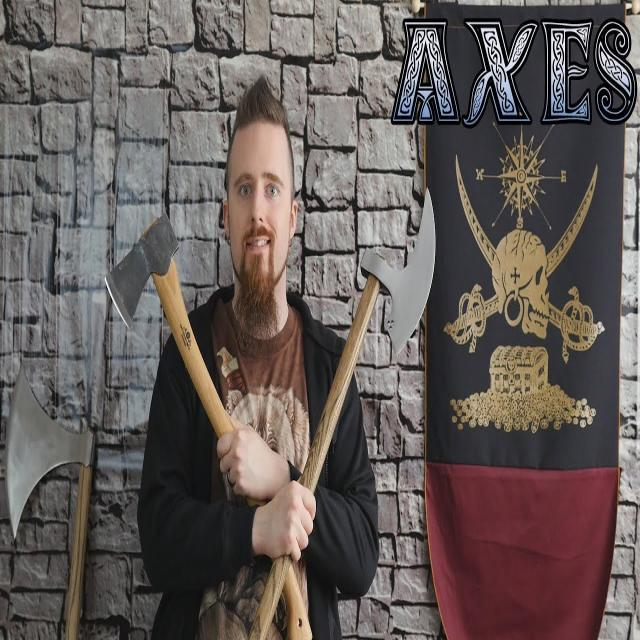axe: (102, 209, 319, 637), (247, 187, 442, 640), (1, 359, 97, 640)
